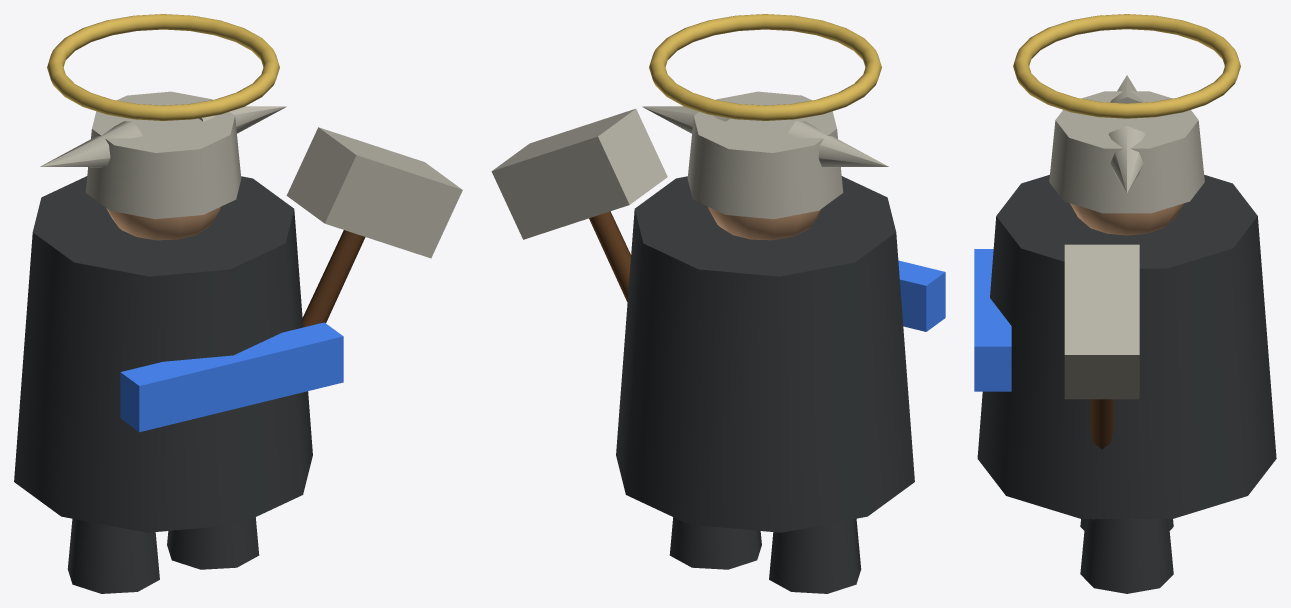
File: mountain_king.glb
3 renders of one model, left to right at view 1: azimuth 30°, elevation 25°; view 2: azimuth 150°, elevation 25°; view 3: azimuth 270°, elevation 25°, orthographic. The views are drawn at different scales.
Parts seen in each view (by area): view 1: mountain-king-armored-body, mountain-king-helmet, mountain-king-hammer-head, mountain-king-team-belt, mountain-king-hero-gold-halo, mountain-king-boots-left, mountain-king-boots-right, mountain-king-hammer-handle, mountain-king-head, mountain-king-left-horn, mountain-king-right-horn; view 2: mountain-king-armored-body, mountain-king-helmet, mountain-king-hammer-head, mountain-king-hero-gold-halo, mountain-king-boots-left, mountain-king-boots-right, mountain-king-team-belt, mountain-king-head, mountain-king-left-horn, mountain-king-hammer-handle, mountain-king-right-horn; view 3: mountain-king-armored-body, mountain-king-helmet, mountain-king-hammer-head, mountain-king-hero-gold-halo, mountain-king-boots-right, mountain-king-team-belt, mountain-king-head, mountain-king-right-horn, mountain-king-hammer-handle, mountain-king-left-horn.
Part boxes in pixels (x1,y1,x2,y2): mountain-king-armored-body: (14,176,312,532); mountain-king-helmet: (85,91,241,219); mountain-king-hammer-head: (286,127,462,258); mountain-king-team-belt: (120,322,343,432); mountain-king-hero-gold-halo: (47,14,279,120); mountain-king-boots-left: (67,518,159,593); mountain-king-boots-right: (167,517,259,569); mountain-king-hammer-handle: (302,230,365,327); mountain-king-head: (106,207,220,240); mountain-king-left-horn: (40,121,142,167); mountain-king-right-horn: (199,106,286,133); mountain-king-armored-body: (616,176,914,532); mountain-king-helmet: (687,91,843,219); mountain-king-hammer-head: (491,108,667,239); mountain-king-hero-gold-halo: (649,14,881,120); mountain-king-boots-left: (769,518,861,593); mountain-king-boots-right: (669,517,761,569); mountain-king-team-belt: (898,260,945,331); mountain-king-head: (708,207,822,240); mountain-king-left-horn: (786,121,888,167); mountain-king-hammer-handle: (589,211,630,302); mountain-king-right-horn: (642,106,729,133); mountain-king-armored-body: (977,174,1276,518); mountain-king-helmet: (1049,91,1204,213); mountain-king-hammer-head: (1064,244,1139,399); mountain-king-hero-gold-halo: (1013,14,1240,118); mountain-king-boots-right: (1080,519,1173,593); mountain-king-team-belt: (974,249,1011,391); mountain-king-head: (1070,203,1183,235); mountain-king-right-horn: (1108,126,1145,192); mountain-king-hammer-handle: (1090,399,1113,520); mountain-king-left-horn: (1110,75,1143,103).
Size of the model in its own units: 1.43 by 1.74 by 0.97.
